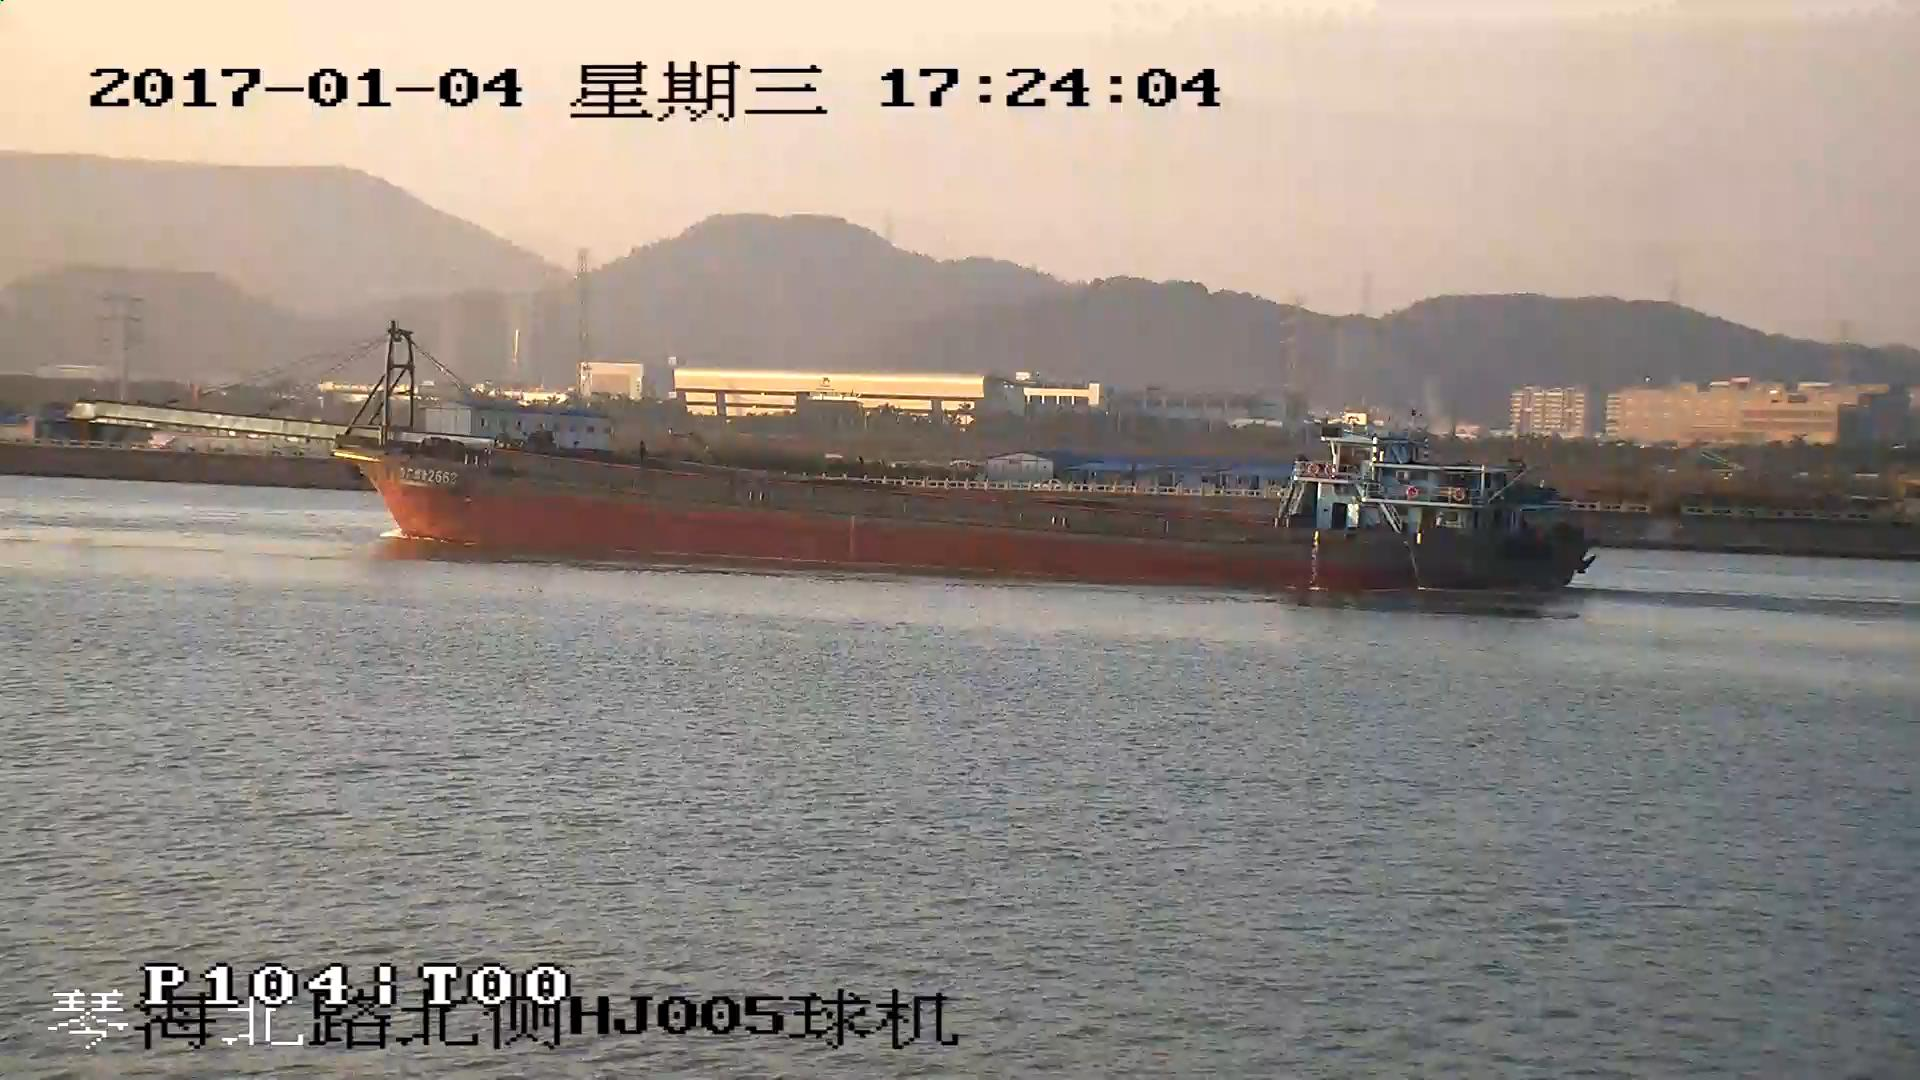bulk cargo carrier: (81, 323, 1596, 597)
